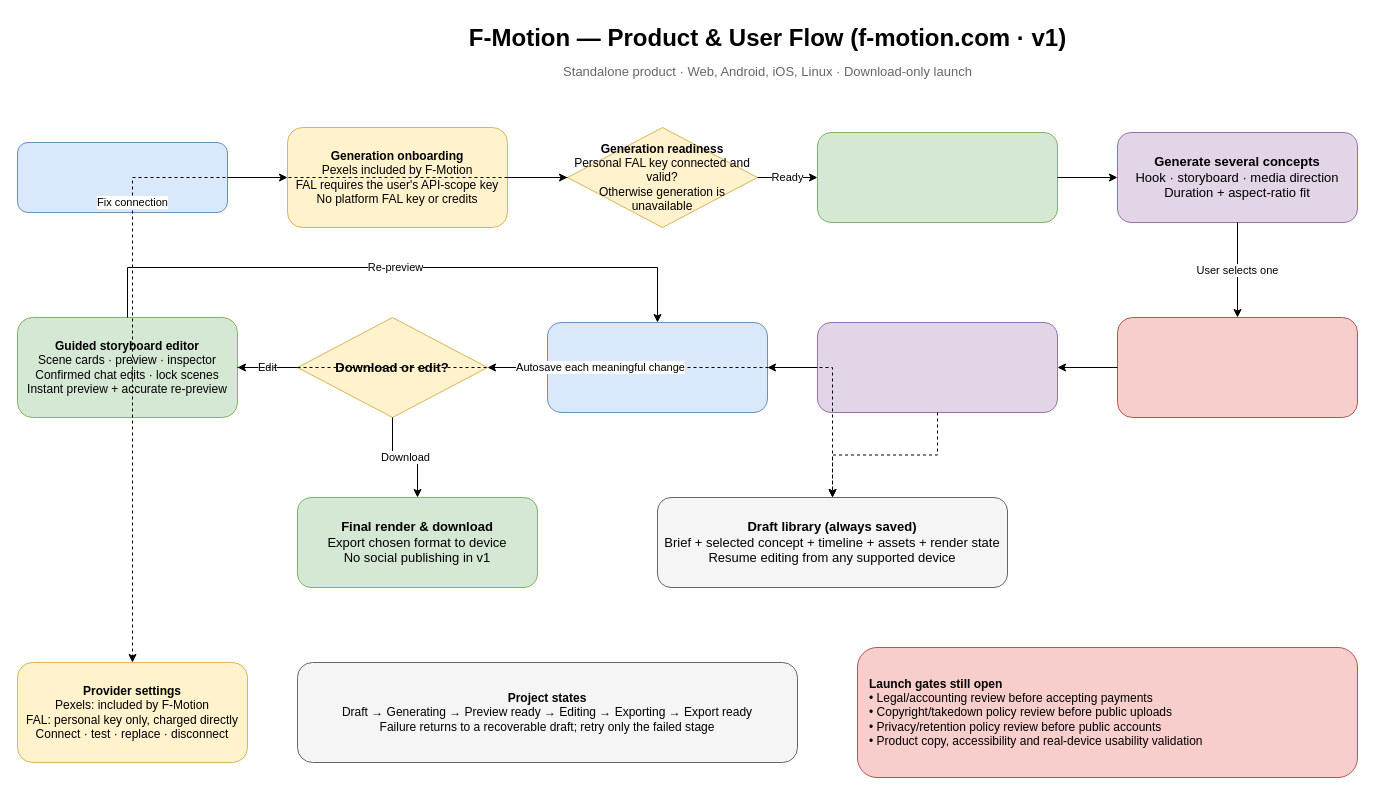
Image size: 1375x795. Some labels were removed from this diagram. Each missing label, with the centre of its shape:
Chat-style brief Goal · topic · audience · tone User media upload · references: pixel 937 177
Choose one output YouTube video 16:9 Reel / Short 9:16 Story 9:16: pixel 1237 367
First launch / Sign in Standalone F-Motion account: pixel 122 177
Generation job Script → assets → timeline → render Progress survives app close: pixel 937 367
Preview only Fast proxy / low-resolution render Review before final export: pixel 657 367
